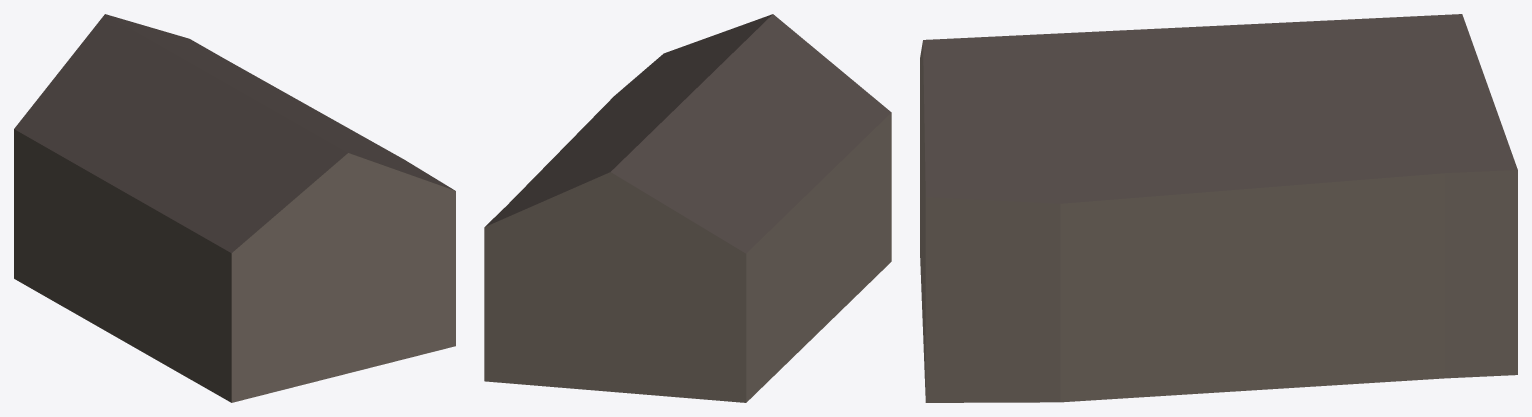
3 renders of one model, left to right at view 1: azimuth 30°, elevation 25°; view 2: azimuth 150°, elevation 25°; view 3: azimuth 270°, elevation 25°, orthographic. The views are drawn at different scales.
Parts seen in each view (by area): view 1: HP-w783664776; view 2: HP-w783664776; view 3: HP-w783664776.
Part boxes in pixels (x1=…): HP-w783664776: x1=14, y1=14, x2=455, y2=402; HP-w783664776: x1=484, y1=14, x2=891, y2=402; HP-w783664776: x1=920, y1=14, x2=1517, y2=402.
Bounding box in the file's own units: 11.01 × 8.84 × 16.36.
